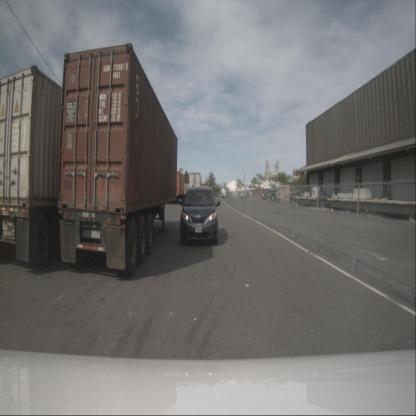vehicle-car: (180, 186, 218, 245), (269, 192, 278, 202), (276, 191, 283, 201), (262, 192, 266, 200)
